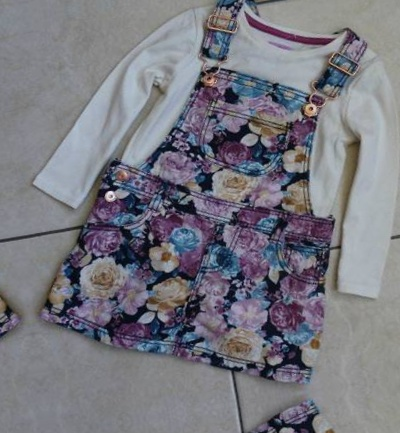Dress: (0, 0, 400, 428), (52, 373, 400, 433), (0, 53, 46, 433), (400, 0, 400, 361)
